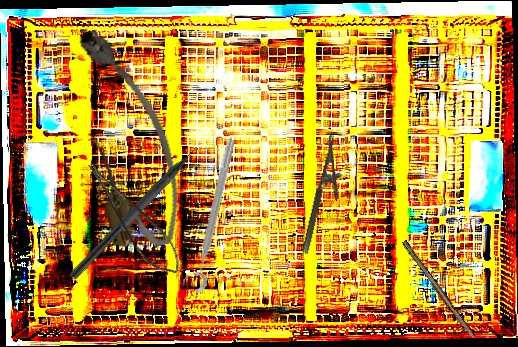Cannula: (65, 19, 192, 256)
Chopper: (68, 132, 218, 290)
Fixation Ring: (179, 135, 240, 295)
Micro Scissor: (84, 148, 188, 286)
Needle Holder: (300, 134, 353, 258)
Scalpel Handle: (398, 239, 478, 340)
